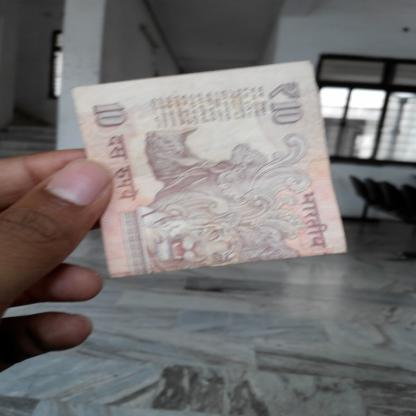Old10Back: (71, 60, 348, 280)
